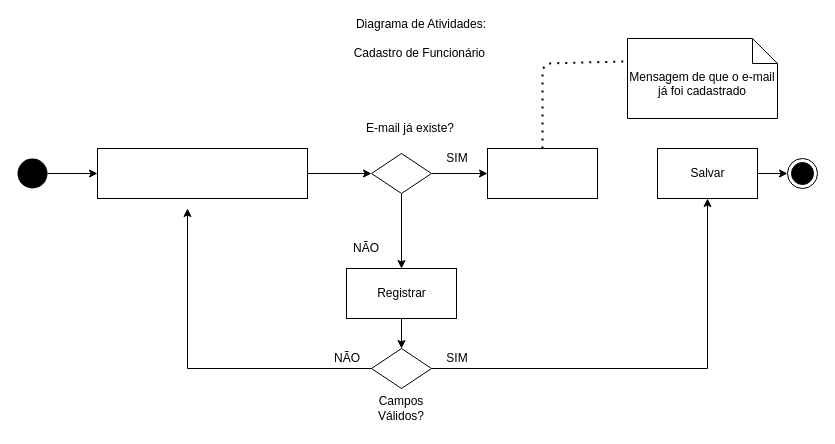
Some shapes in this 835 by 444 pixel diagram are drawn without their labels. Here are the shapes that lost their labels. From the top down, the centre of each, then its label:
the point at 202,173: Preencher nome, sobrenome, e-mail e senha
the point at 542,173: E-mail em uso
